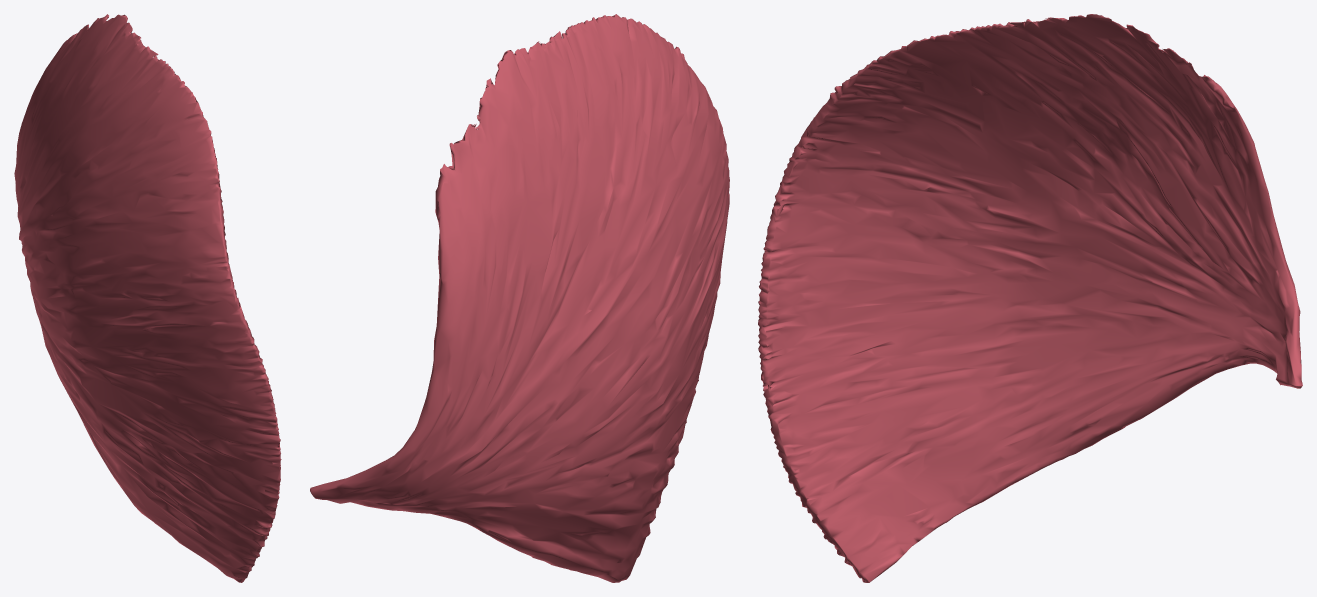
3 renders of one model, left to right at view 1: azimuth 30°, elevation 25°; view 2: azimuth 150°, elevation 25°; view 3: azimuth 270°, elevation 25°, orthographic. The views are drawn at different scales.
Parts seen in each view (by area): view 1: 右侧颞顶肌; view 2: 右侧颞顶肌; view 3: 右侧颞顶肌.
Part boxes in pixels (box(x1,y1,x2,y2)): 右侧颞顶肌: box(14, 14, 281, 582); 右侧颞顶肌: box(310, 14, 729, 582); 右侧颞顶肌: box(758, 14, 1302, 582).
Size of the model in its own units: 0.0563 by 0.1721 by 0.1516.
